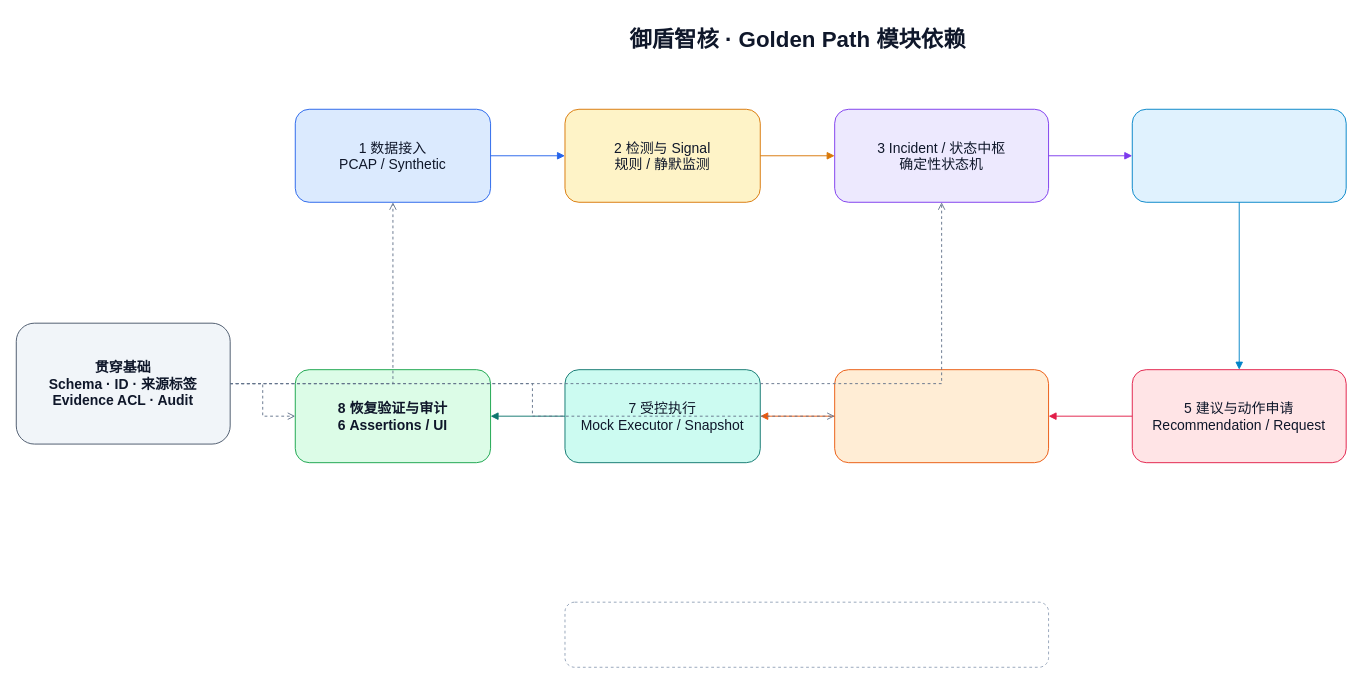
Some shapes in this 1362 by 684 pixel diagram are drawn without their labels. The centre of each missing label's shape, as x and y in pixels:
4 LangGraph + Agent 调查 · 溯源 · Fact: point (1238, 155)
6 确定性守卫 Policy + Human Approval: point (941, 416)
编码依赖从 1 到 8；基础能力先行，UI 与模型增强后置: point (806, 634)
